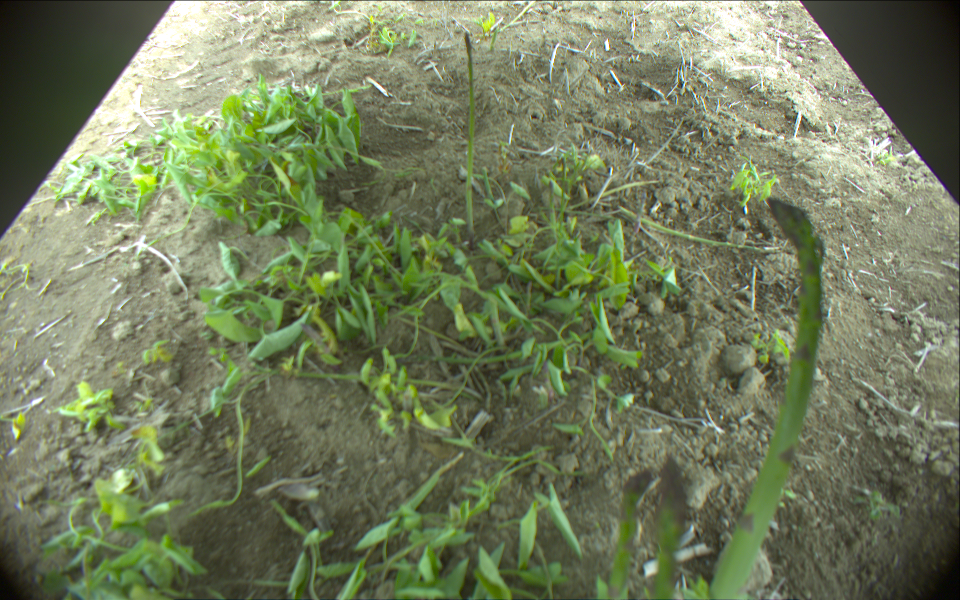aspa: (705, 192, 822, 600), (609, 471, 654, 600), (650, 457, 686, 600), (463, 32, 476, 233)
